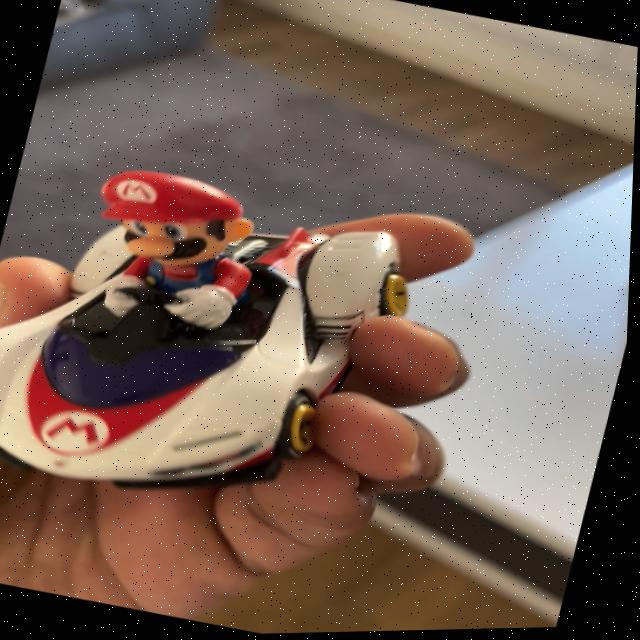mario: (0, 135, 501, 574)
